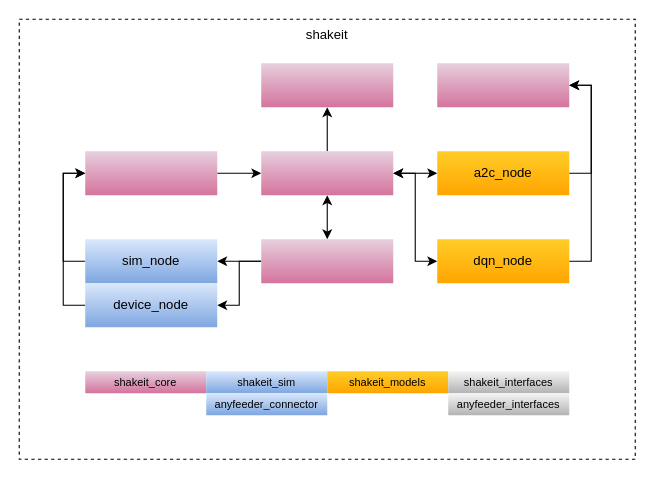
Image size: 655x479. Some labels were removed from this diagram. Each missing label, with the centre of its shape:
"control_node" belongs at [327,261].
"free_object_node" belongs at [151,173].
"rl_node" belongs at [327,173].
"stats_node" belongs at [327,85].
"visualize_node" belongs at [503,85].
